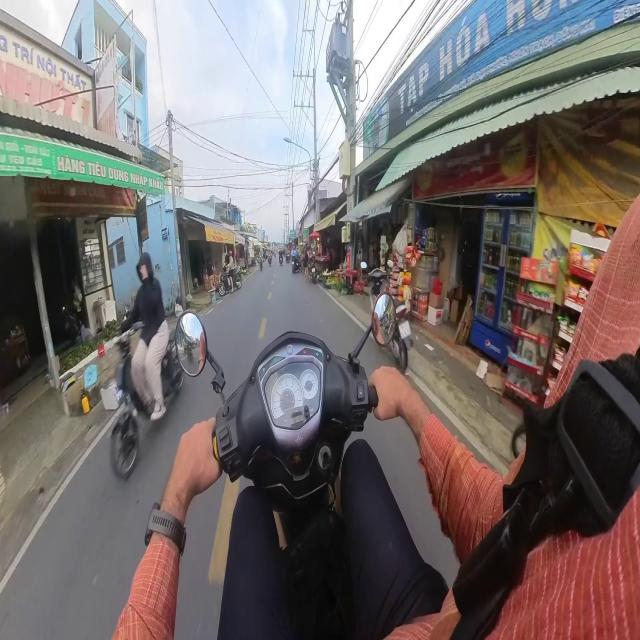motorcycle: (206, 293, 395, 638), (110, 323, 152, 479), (388, 304, 412, 372), (217, 267, 242, 296), (310, 263, 317, 283), (292, 257, 300, 273), (279, 255, 283, 265), (260, 258, 263, 271), (268, 256, 271, 266)
